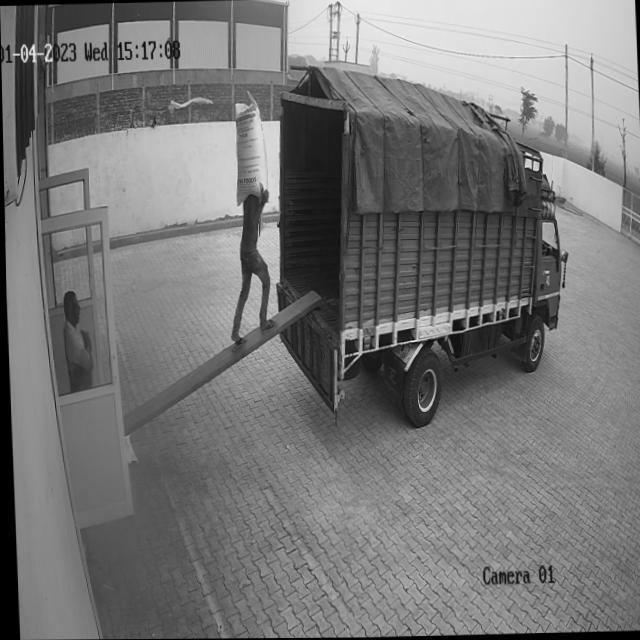sack: (231, 89, 267, 206)
